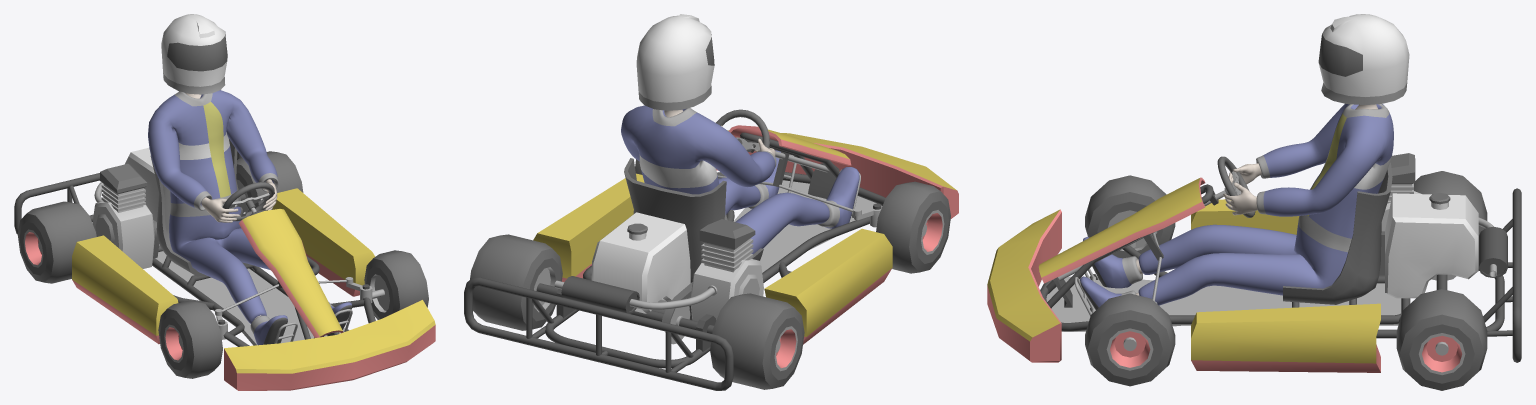
Rendered from racing_kart.glb.
The picture shows the model from 3 angles, left to right: view 1: azimuth 30°, elevation 25°; view 2: azimuth 150°, elevation 25°; view 3: azimuth 270°, elevation 25°; orthographic projection. The views are drawn at different scales.
Visible parts, largest first — view 1: Body_Lines2_0, drivers_Mono1_0, Body_Body_0, RR_Wheel_Tires_0, Chassis_Chassis_0, Chassis_Rims_0, FR_Wheel_Tires_0, Engine_Engine_0, FL_Wheel_Tires_0, drivers_Casco_0, drivers_Visera_0, drivers_Mono2_0 (×2) (+11 smaller); view 2: Chassis_Chassis_0, Body_Lines2_0, drivers_Mono1_0, Engine_Deposit_0, RR_Wheel_Tires_0, drivers_Casco_0, RL_Wheel_Tires_0, FR_Wheel_Tires_0, Body_Body_0, Body_Tires_0, Chassis_Rims_0, Engine_Engine_0 (+9 smaller); view 3: drivers_Mono1_0, Body_Lines2_0, Engine_Deposit_0, Body_Body_0, RL_Wheel_Tires_0, Chassis_Chassis_0, drivers_Casco_0, Chassis_Rims_0, FL_Wheel_Tires_0, Body_Tires_0, FR_Wheel_Tires_0, drivers_Casco2_0 (+11 smaller).
Part boxes in pixels (left/top/right/bottom): Body_Lines2_0: left=72, top=188, right=435, bottom=373; drivers_Mono1_0: left=148, top=90, right=351, bottom=345; Body_Body_0: left=72, top=220, right=435, bottom=390; RR_Wheel_Tires_0: left=17, top=201, right=96, bottom=283; Chassis_Chassis_0: left=14, top=151, right=375, bottom=346; Chassis_Rims_0: left=155, top=251, right=384, bottom=345; FR_Wheel_Tires_0: left=158, top=300, right=222, bottom=378; Engine_Engine_0: left=92, top=184, right=154, bottom=268; FL_Wheel_Tires_0: left=364, top=250, right=428, bottom=319; drivers_Casco_0: left=161, top=14, right=227, bottom=86; drivers_Visera_0: left=167, top=31, right=352, bottom=344; drivers_Mono2_0 (×2): left=178, top=102, right=230, bottom=197; Chassis_Chassis_0: left=464, top=132, right=885, bottom=390; Body_Lines2_0: left=533, top=129, right=956, bottom=336; drivers_Mono1_0: left=621, top=105, right=859, bottom=254; Engine_Deposit_0: left=591, top=212, right=690, bottom=313; RR_Wheel_Tires_0: left=710, top=293, right=804, bottom=389; drivers_Casco_0: left=636, top=14, right=714, bottom=102; RL_Wheel_Tires_0: left=470, top=234, right=562, bottom=330; FR_Wheel_Tires_0: left=876, top=181, right=950, bottom=273; Body_Body_0: left=562, top=125, right=958, bottom=344; Body_Tires_0: left=624, top=158, right=763, bottom=282; Chassis_Rims_0: left=665, top=175, right=882, bottom=344; Engine_Engine_0: left=690, top=238, right=763, bottom=321; drivers_Mono1_0: left=1080, top=104, right=1393, bottom=307; Body_Lines2_0: left=987, top=178, right=1380, bottom=363; Engine_Deposit_0: left=1385, top=193, right=1478, bottom=298; Body_Body_0: left=987, top=177, right=1380, bottom=372; RL_Wheel_Tires_0: left=1396, top=289, right=1487, bottom=390; Chassis_Chassis_0: left=1040, top=184, right=1521, bottom=362; drivers_Casco_0: left=1318, top=14, right=1409, bottom=96; Chassis_Rims_0: left=1046, top=231, right=1456, bottom=331; FL_Wheel_Tires_0: left=1085, top=293, right=1175, bottom=386; Body_Tires_0: left=1283, top=162, right=1392, bottom=304; FR_Wheel_Tires_0: left=1085, top=175, right=1175, bottom=258; drivers_Casco2_0: left=1121, top=83, right=1407, bottom=295.
Bounding box in the file's own units: 1.15 × 1.11 × 1.77.
